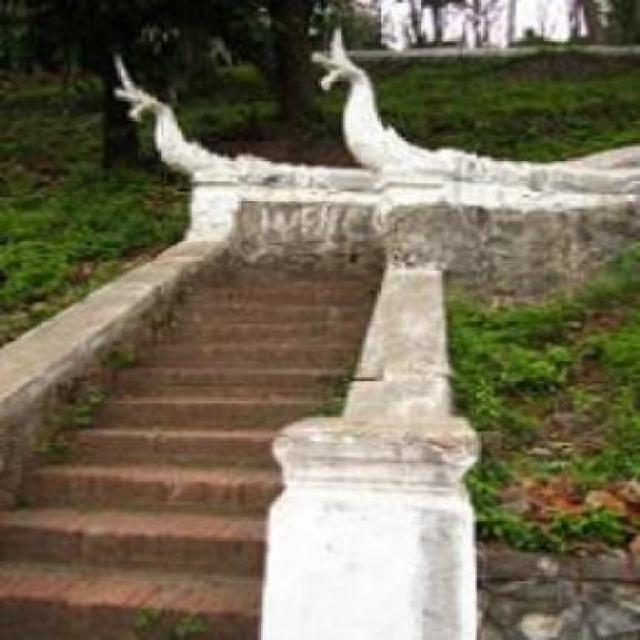stair: (0, 263, 385, 639)
